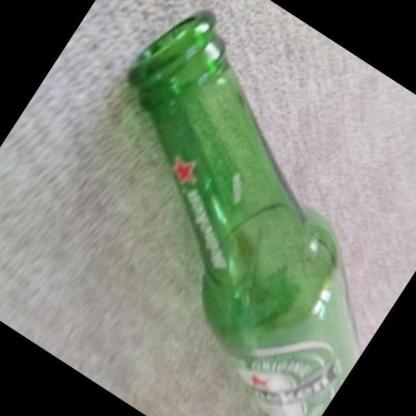Can: (126, 8, 362, 416)
